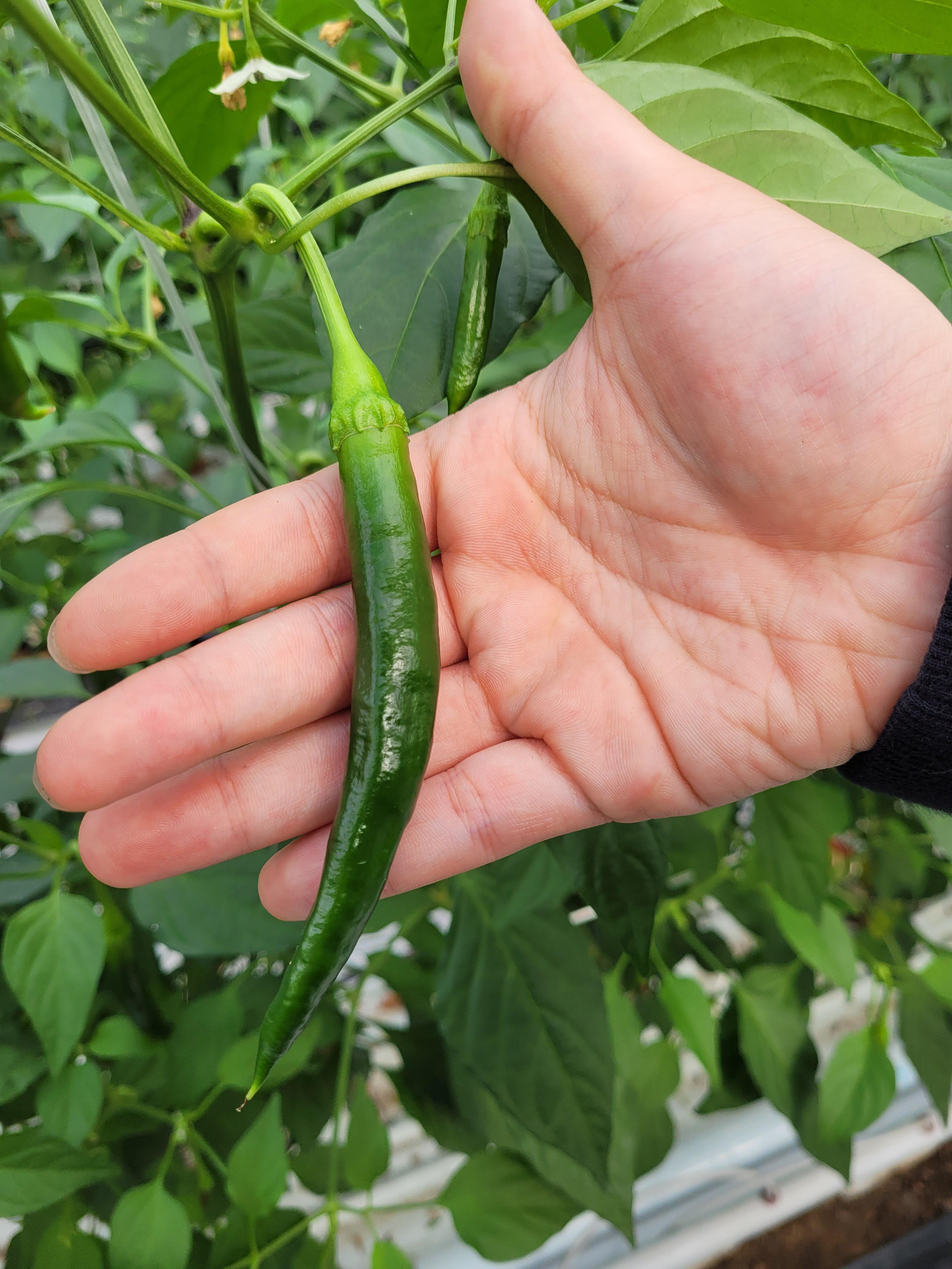Buah Cabai Sehat: (252, 357, 444, 1132)
